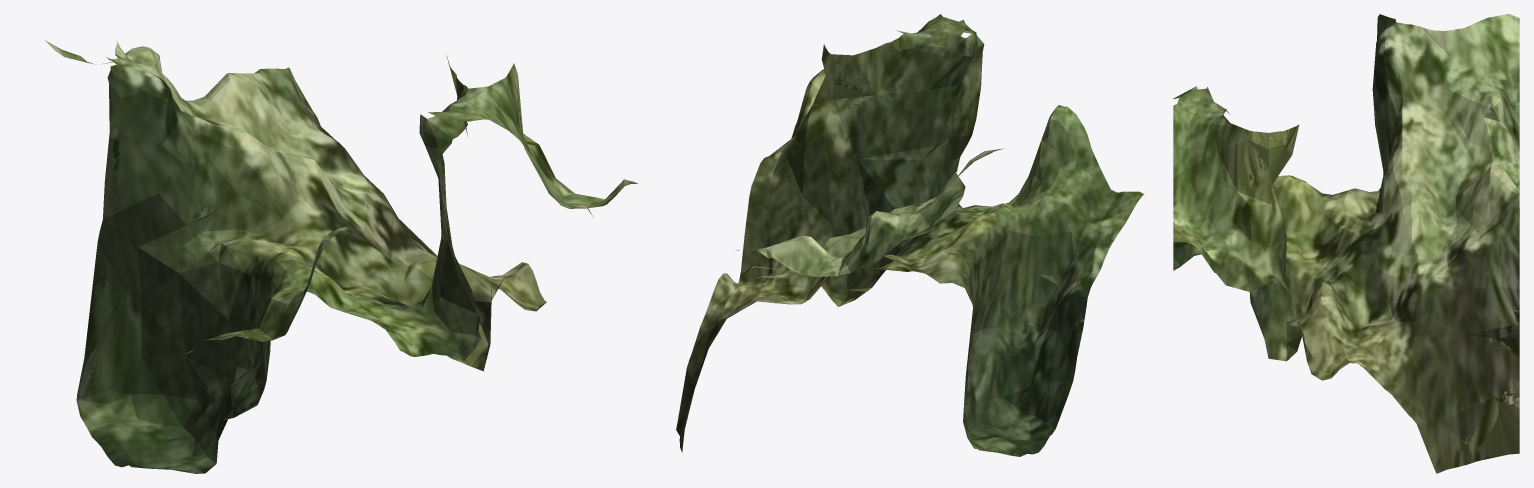
3 renders of one model, left to right at view 1: azimuth 30°, elevation 25°; view 2: azimuth 150°, elevation 25°; view 3: azimuth 270°, elevation 25°, orthographic. The views are drawn at different scales.
Size of the model in its own units: 2.95 by 2.95 by 2.95.
Materials: 5 (5 with a texture image).
